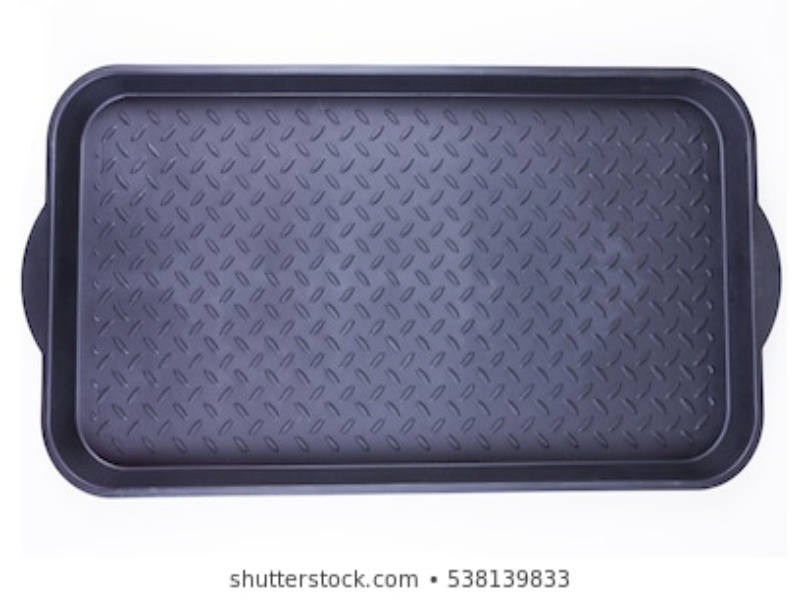plastic-tray: (27, 57, 786, 500)
